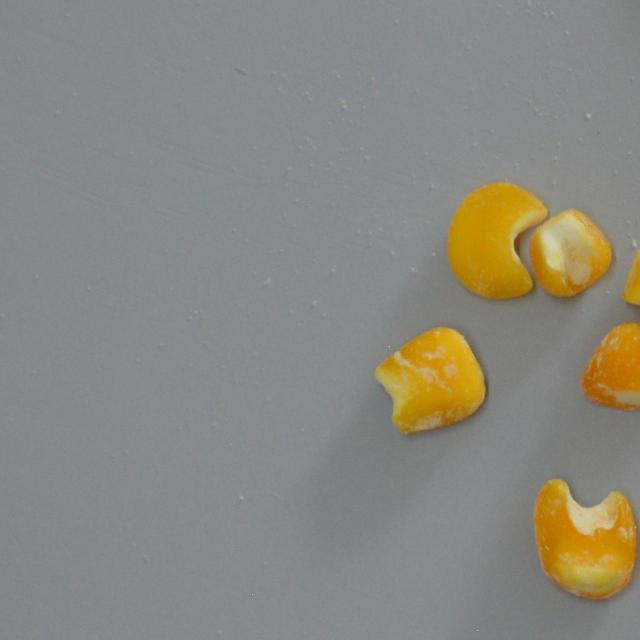dañado: (532, 474, 640, 607), (574, 314, 640, 418)
no_canjicado: (444, 179, 548, 304)
pelicula: (376, 320, 494, 438), (526, 204, 614, 302), (620, 242, 640, 350)
